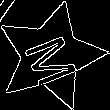M_E: (18, 25, 83, 87)
